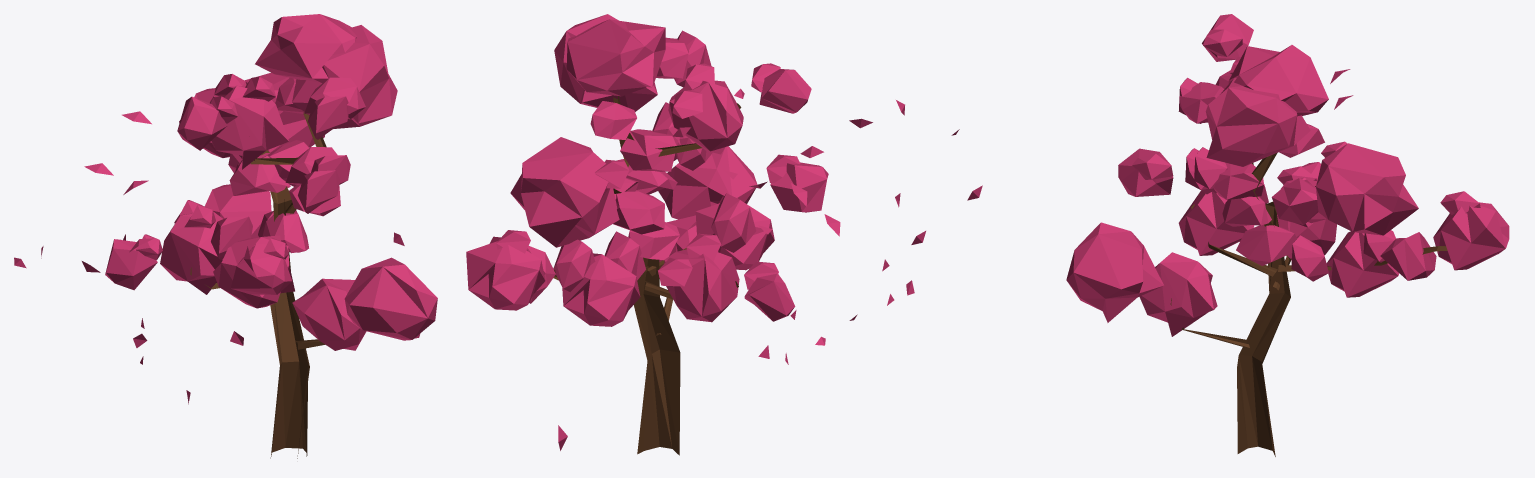
File: blossom.glb
3 renders of one model, left to right at view 1: azimuth 30°, elevation 25°; view 2: azimuth 150°, elevation 25°; view 3: azimuth 270°, elevation 25°, orthographic. The views are drawn at different scales.
Visible parts, largest first — view 1: ??????????; view 2: ??????????; view 3: ??????????.
Boxes of the visible parts, x1,y1,x2,y2 form: ??????????: (14, 14, 437, 458); ??????????: (466, 14, 982, 455); ??????????: (1066, 14, 1509, 456).
Size of the model in its own units: 118 by 150 by 166.
